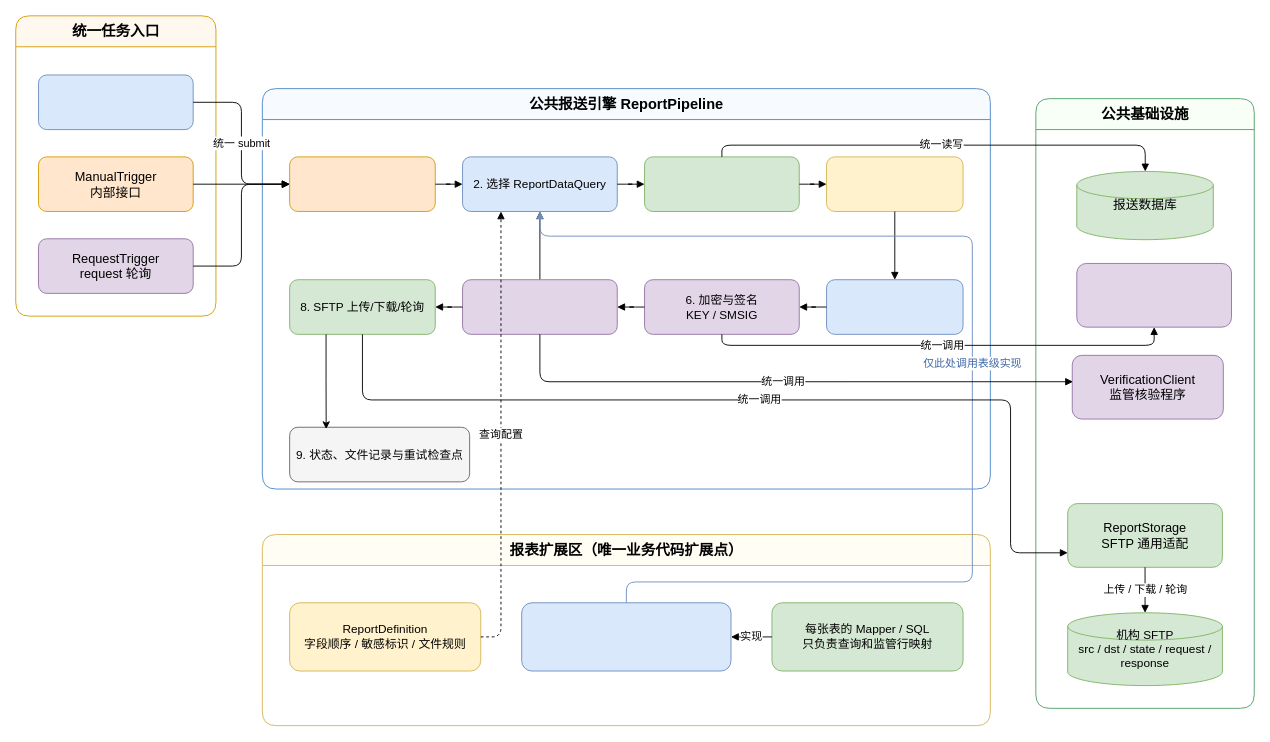
The diagram is 1270 pixels wide and 742 high, and some of its shapes have lost their labels. Each missing label, with the centre of its shape:
1. 任务创建与防重: the point at 362,183
3. 分页查询并快照入库: the point at 721,183
4. 公共校验: the point at 894,183
5. 文件生成 CSV / 分片: the point at 894,306
7. 监管核验程序: the point at 539,306
CryptoService 敏感字段 / 签名: the point at 1154,295
ReportDataQuery reportCode() + query(context, writer): the point at 626,636
ScheduledTrigger AutoJob: the point at 115,102
